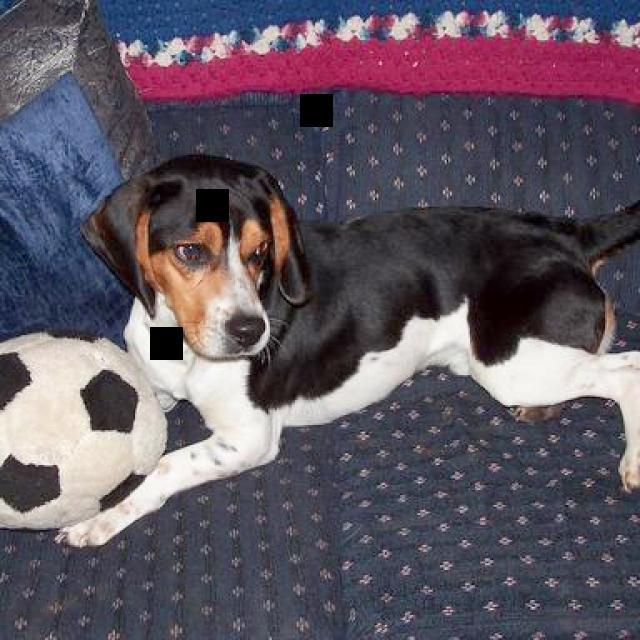adult_dog: (59, 148, 640, 549)
